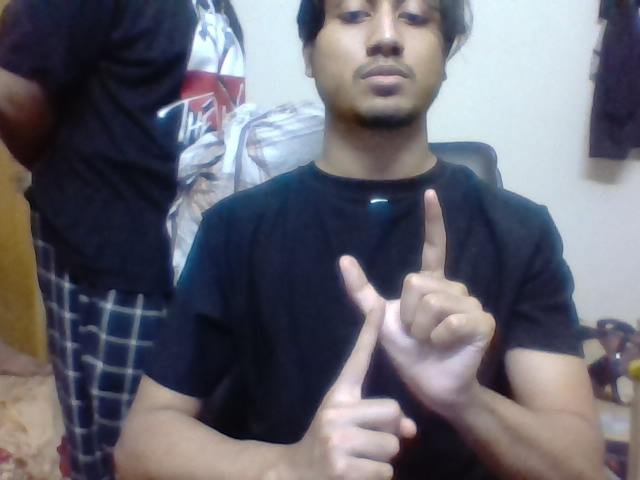Y: (327, 186, 451, 390)
